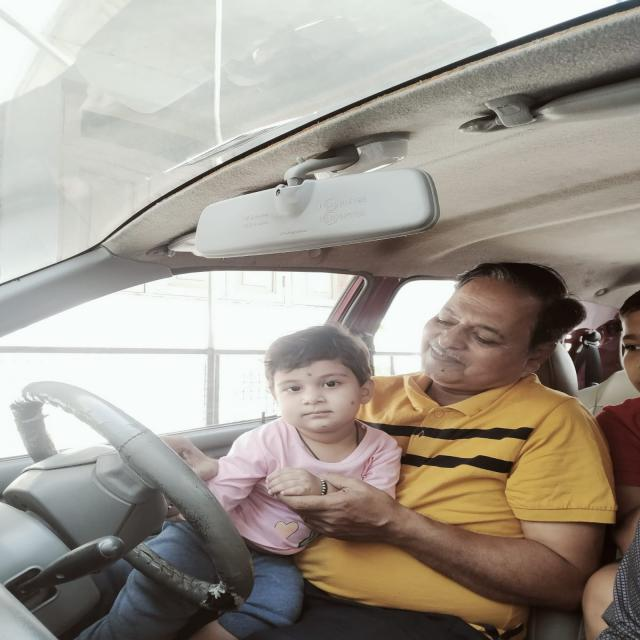child: (243, 323, 398, 436)
person: (413, 227, 595, 435)
